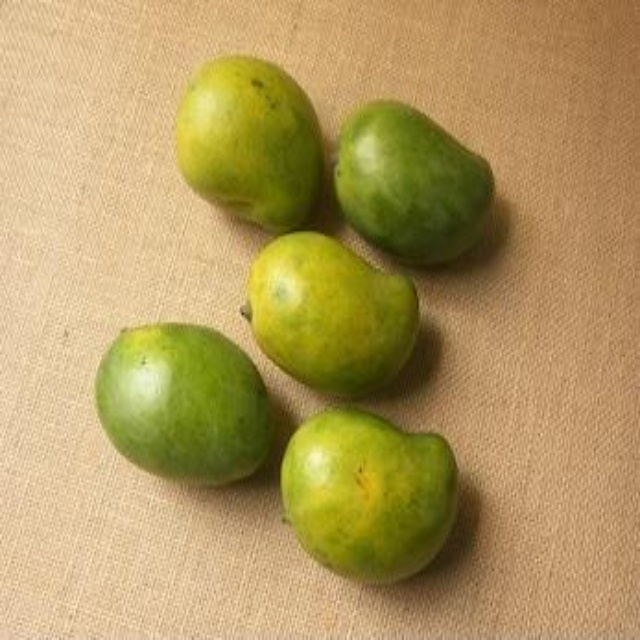mango: (84, 322, 273, 482), (278, 414, 457, 578), (244, 228, 417, 394), (331, 106, 505, 258), (174, 58, 315, 233)
